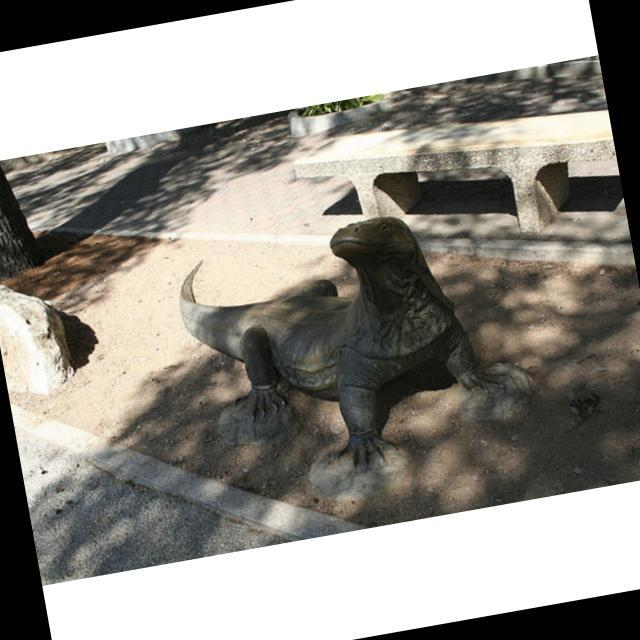KomodoDragon: (172, 192, 551, 497)
